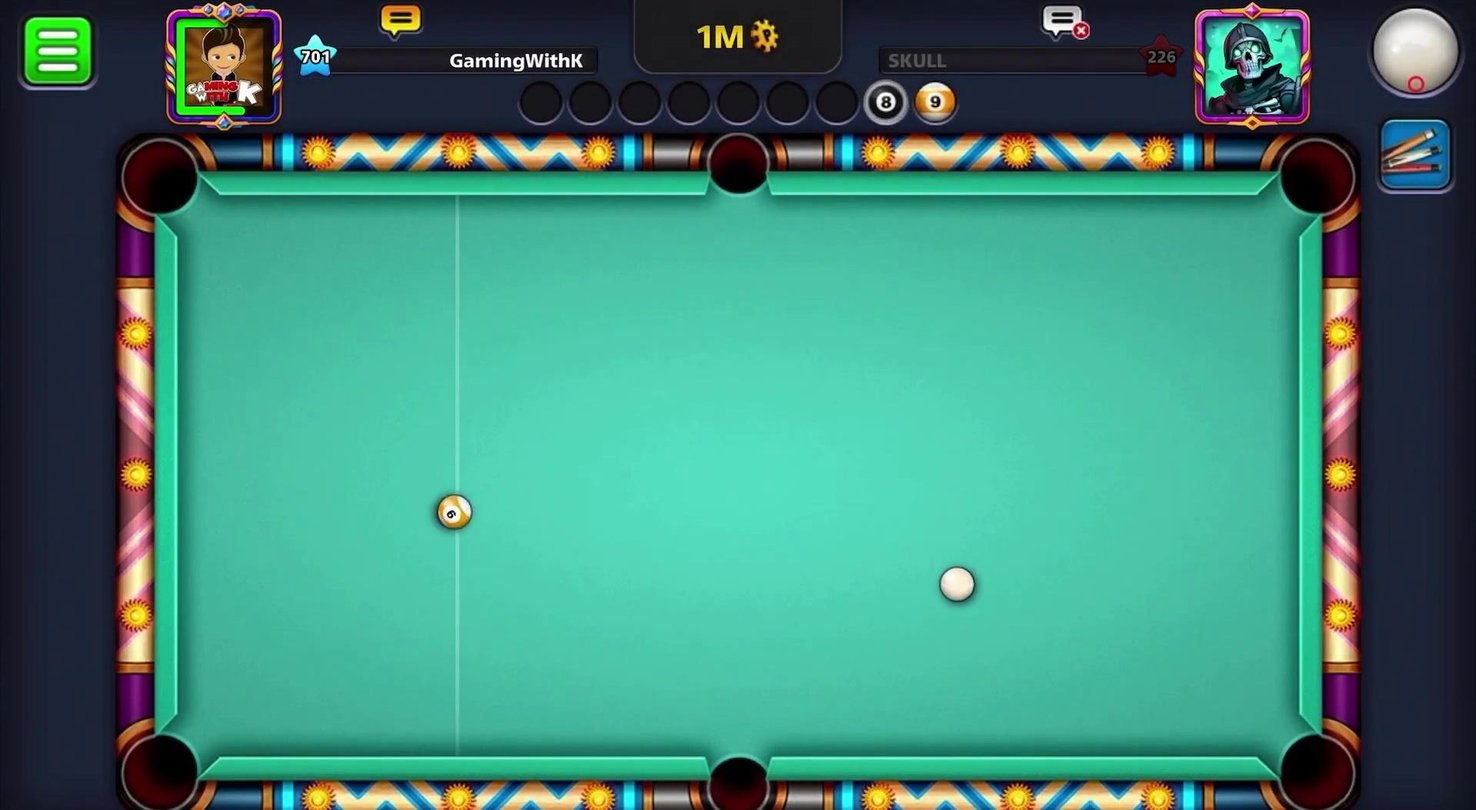Ball: (431, 488, 475, 535)
Hole: (107, 129, 214, 230), (1263, 713, 1365, 809), (1268, 131, 1364, 231), (114, 725, 206, 809), (687, 735, 785, 809), (698, 129, 779, 207)
Play_Area: (177, 195, 1302, 758)
Spin: (1341, 0, 1475, 117)
White: (931, 561, 981, 608)
